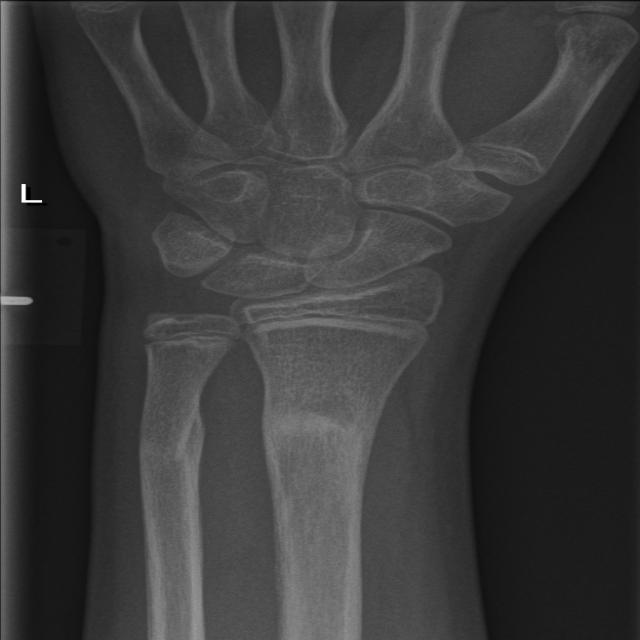radius fracture: (234, 379, 420, 527)
ulna fracture: (128, 363, 226, 538)
